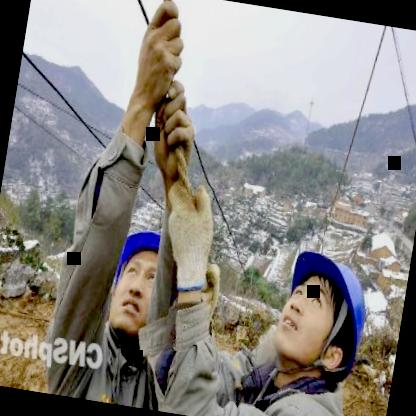helmet: (261, 235, 375, 386), (104, 209, 181, 344)
